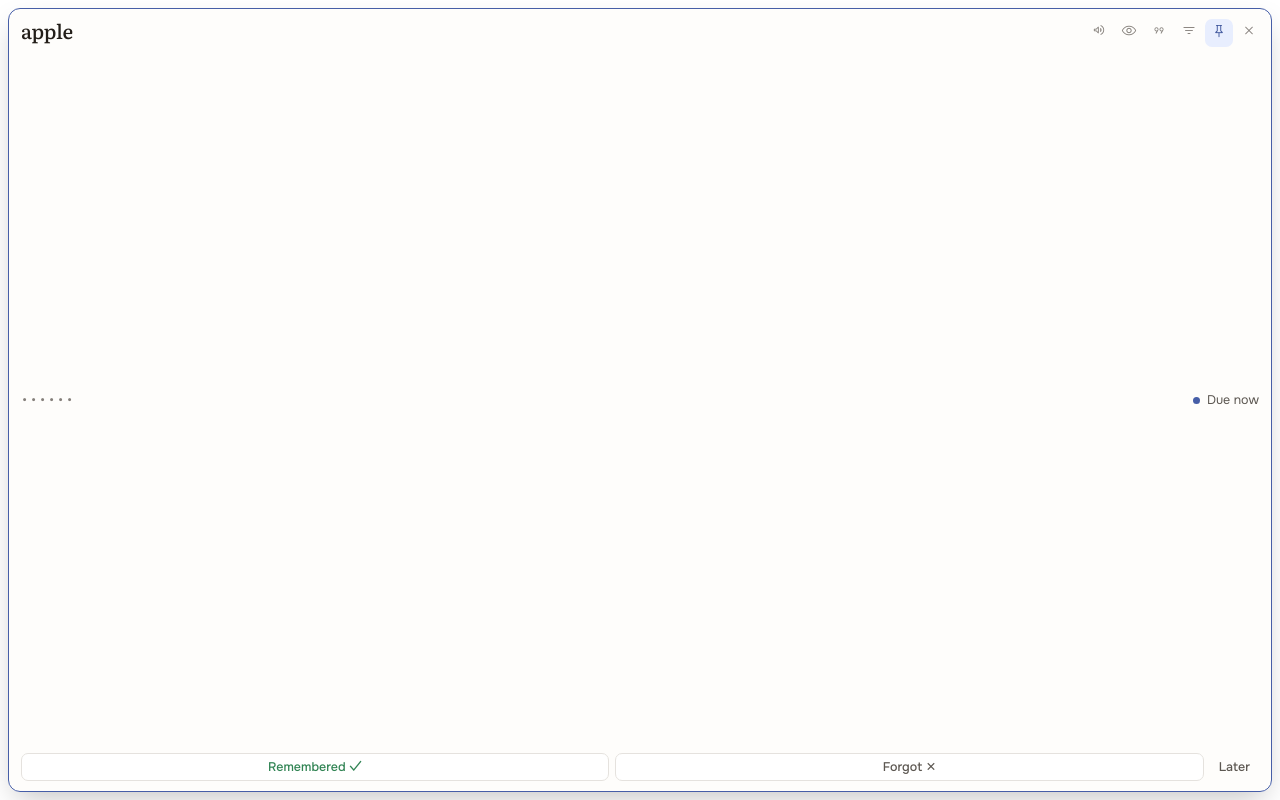
it: StickerApp › toggles the example sentence via the context icon
Check: the text "apple" is shown, box [21,19,73,45]
Click the button named "Toggle translation visibility" at (1129, 33), box [1115,19,1143,47]
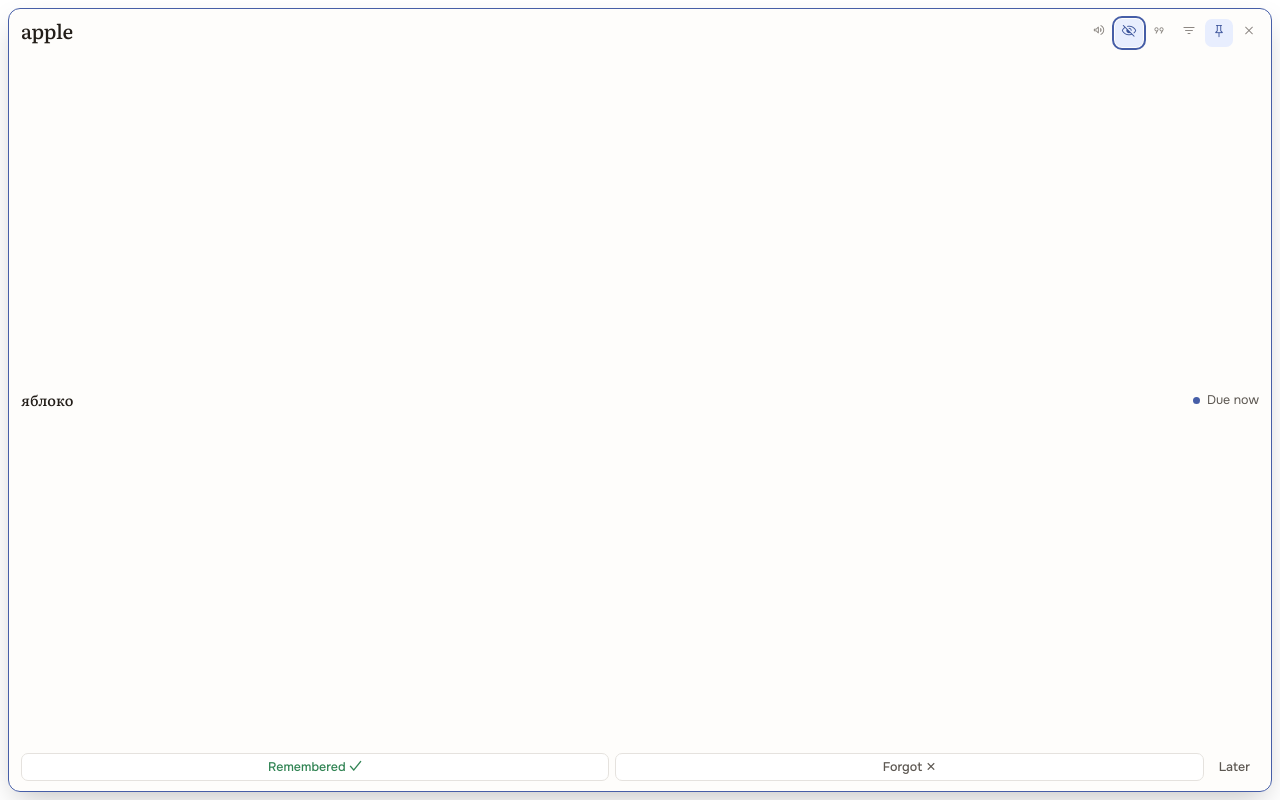
Check: the text "An apple a day" is not shown
Check: the text "яблоко" is shown, box [21,389,73,410]
Click the button named "Show example in context" at (1159, 33), box [1145,19,1173,47]
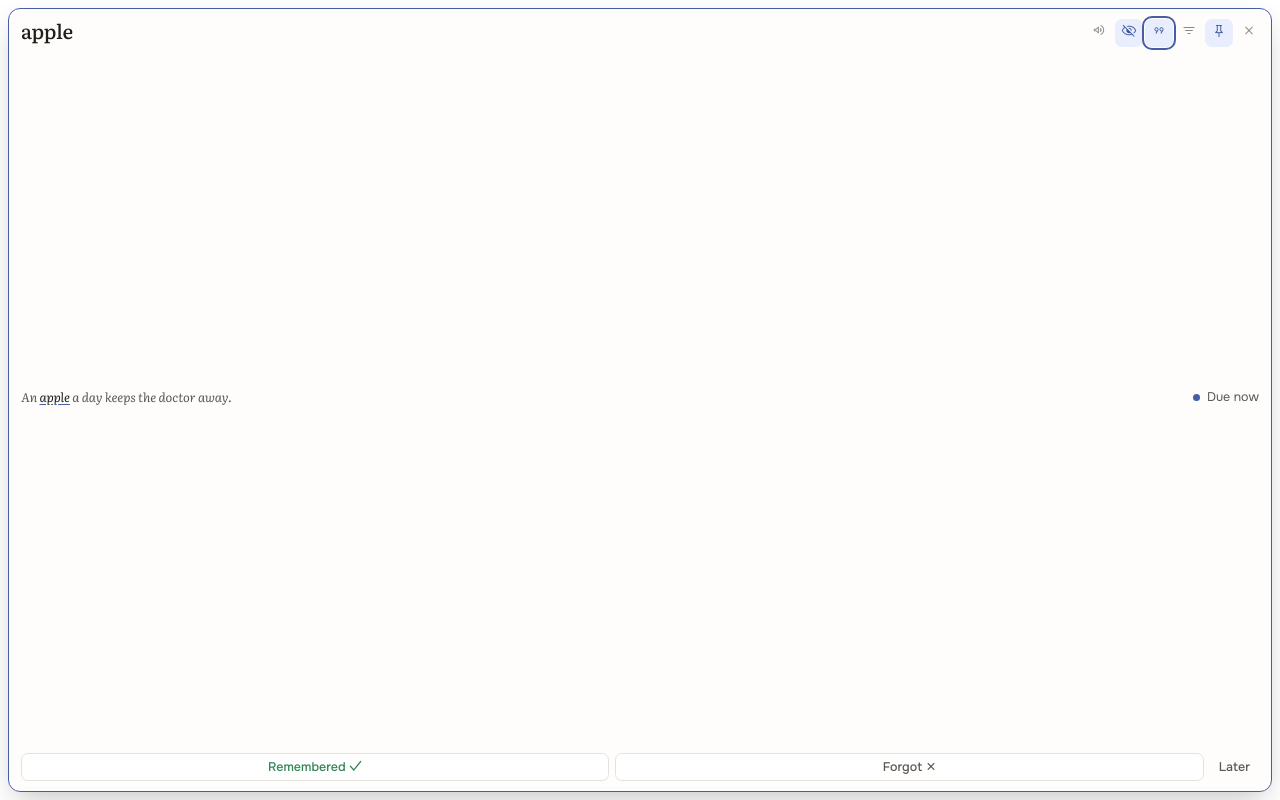
Check: the text "яблоко" is gone
Click the button named "Hide example in context" at (1159, 33), box [1145,19,1173,47]
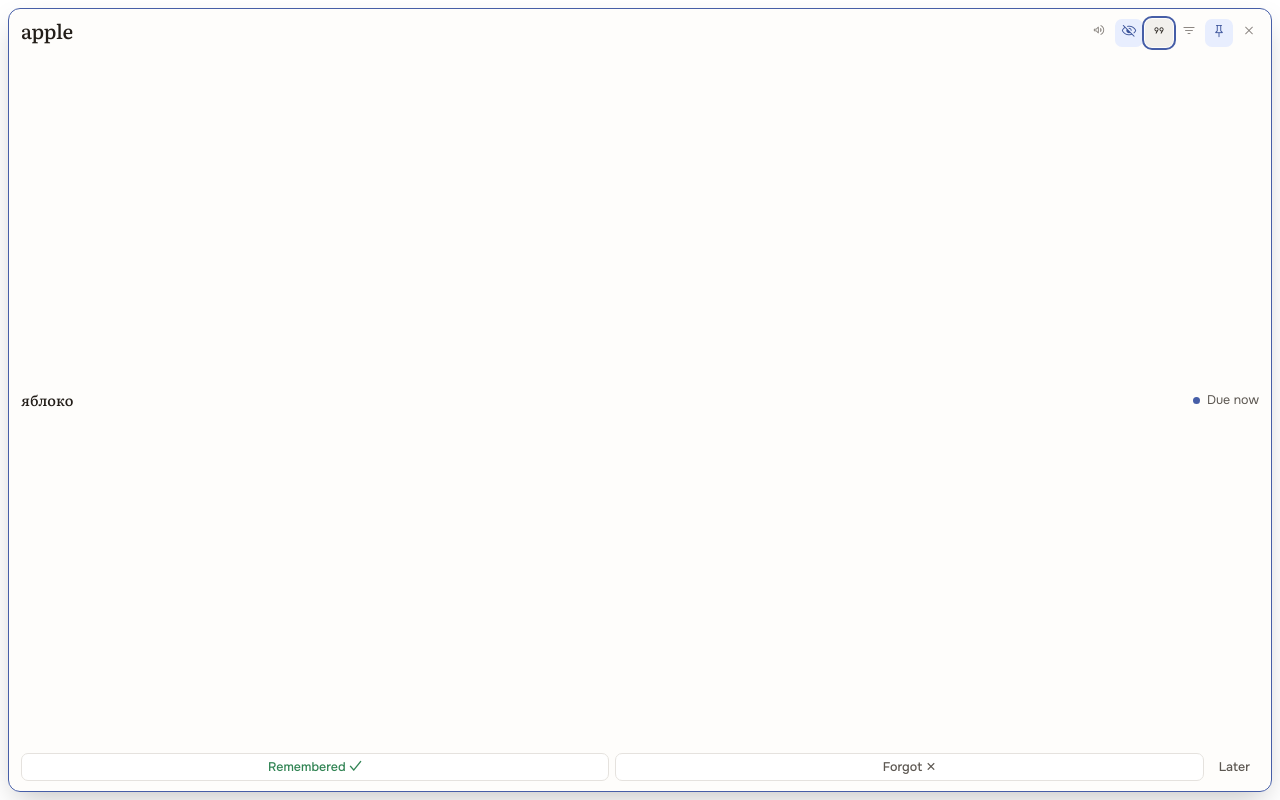
Check: the text "яблоко" is shown, box [21,389,73,410]
